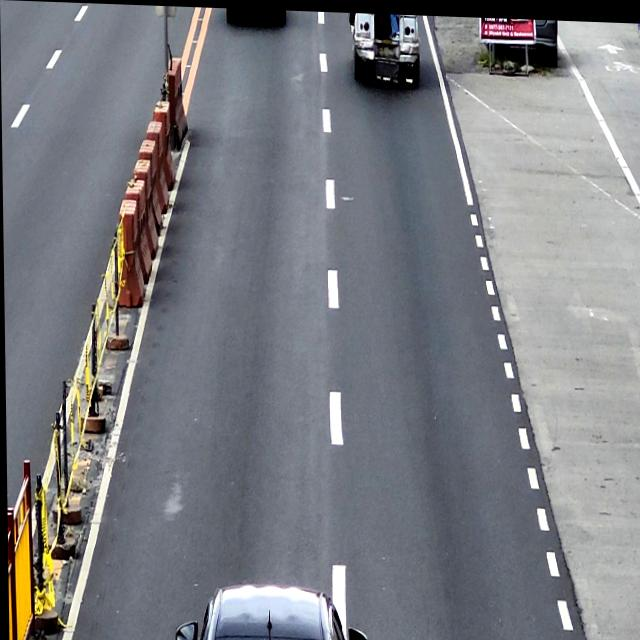Car: (170, 574, 365, 640)
Jeep: (348, 10, 420, 84)
